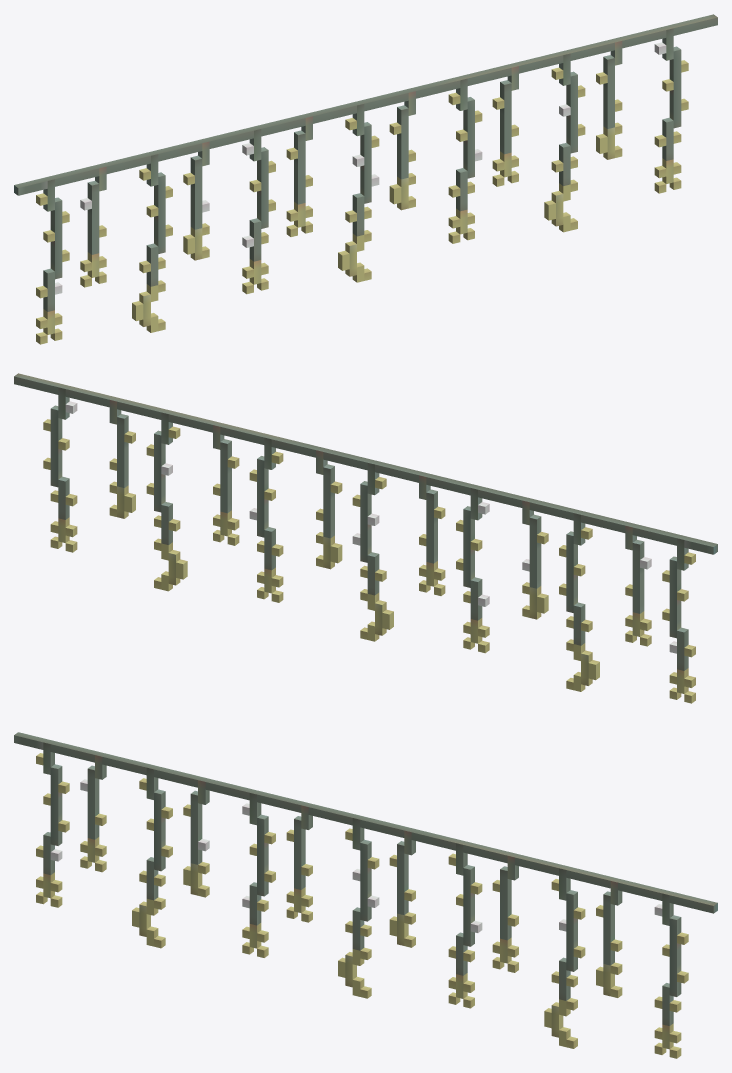
File: StarAndMoonWallDecor_01.obj
The picture shows the model from 3 angles, top to bottom: view 1: azimuth 30°, elevation 25°; view 2: azimuth 150°, elevation 25°; view 3: azimuth 330°, elevation 25°; orthographic projection.
Parts seen in each view (by area): view 1: StarAndMoonWallDecor_01; view 2: StarAndMoonWallDecor_01; view 3: StarAndMoonWallDecor_01.
Boxes of the visible parts, x1,y1,x2,y2 form: StarAndMoonWallDecor_01: [14, 14, 717, 344]; StarAndMoonWallDecor_01: [14, 373, 717, 703]; StarAndMoonWallDecor_01: [14, 732, 717, 1058].
Size of the model in its own units: 4.75 by 1.15 by 0.05.
